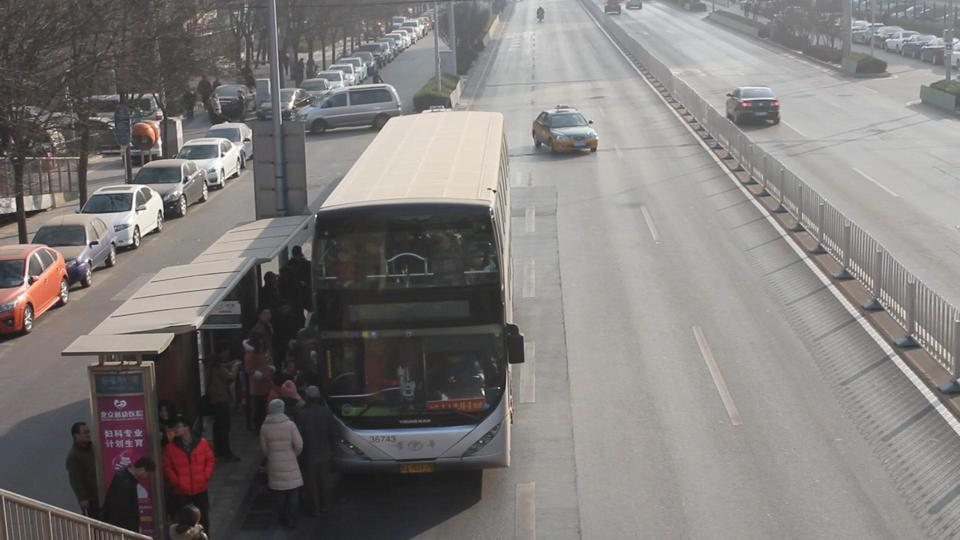bus: (296, 120, 521, 481)
car: (0, 243, 71, 341), (29, 214, 120, 290), (77, 184, 166, 251), (292, 83, 405, 134), (130, 158, 210, 219), (174, 137, 242, 190), (531, 104, 601, 154), (725, 85, 782, 126), (205, 122, 256, 166), (255, 87, 312, 121), (209, 84, 254, 122), (330, 57, 371, 83), (391, 18, 425, 43), (900, 34, 935, 58), (315, 70, 354, 89), (382, 34, 408, 52)
person: (162, 419, 216, 539), (65, 423, 103, 521), (604, 0, 623, 16), (536, 5, 546, 23)
